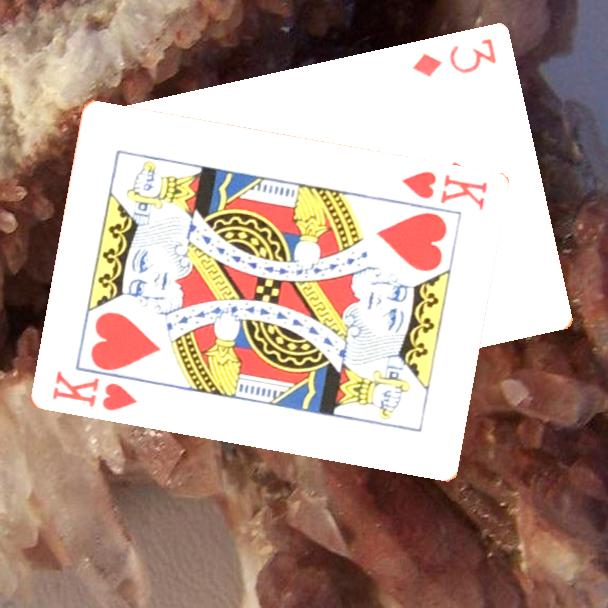d03: (408, 35, 499, 80)
h13: (48, 367, 140, 414), (397, 168, 490, 213)
